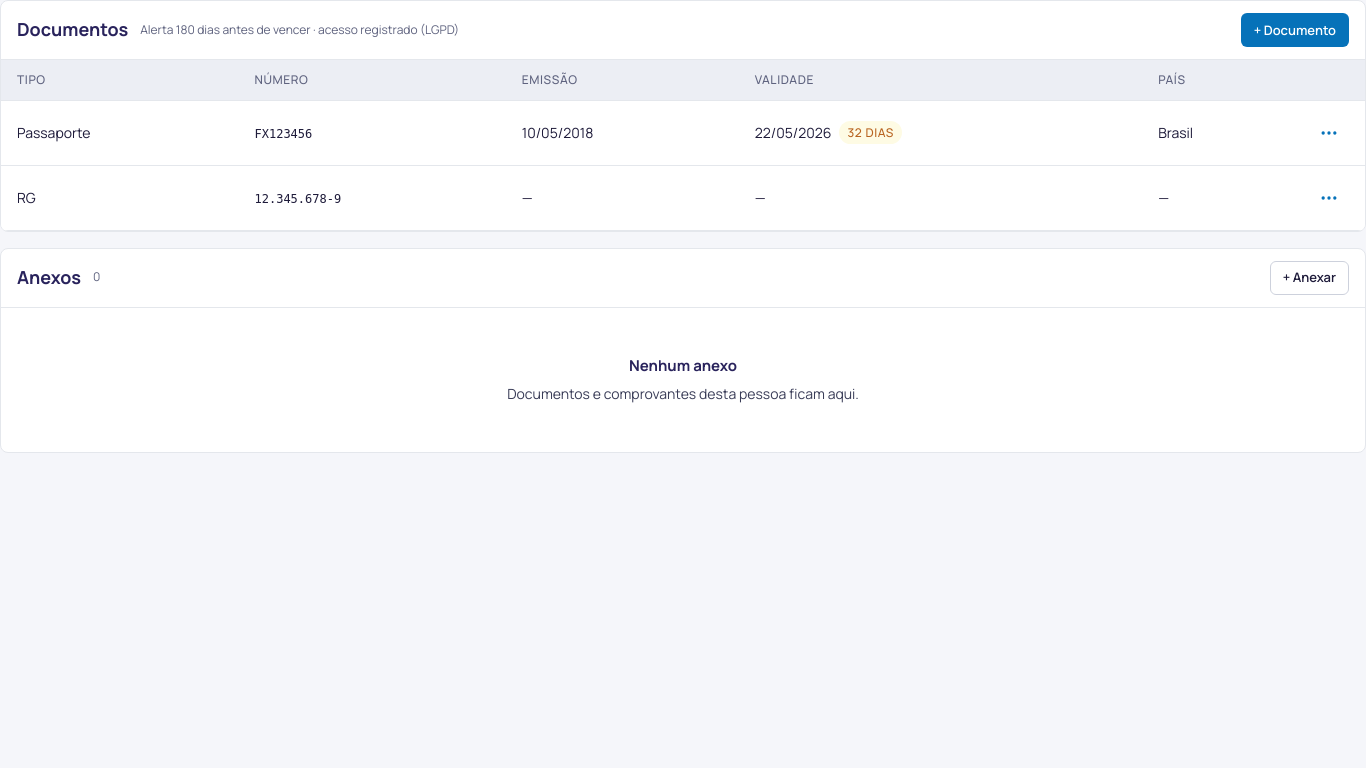
Scenario: "+ Documento" abre o modal
Expected: the text "FX123456" is shown, [254,127,312,141]
Click the button "+ Documento": (1295, 30) [1241,13,1349,47]
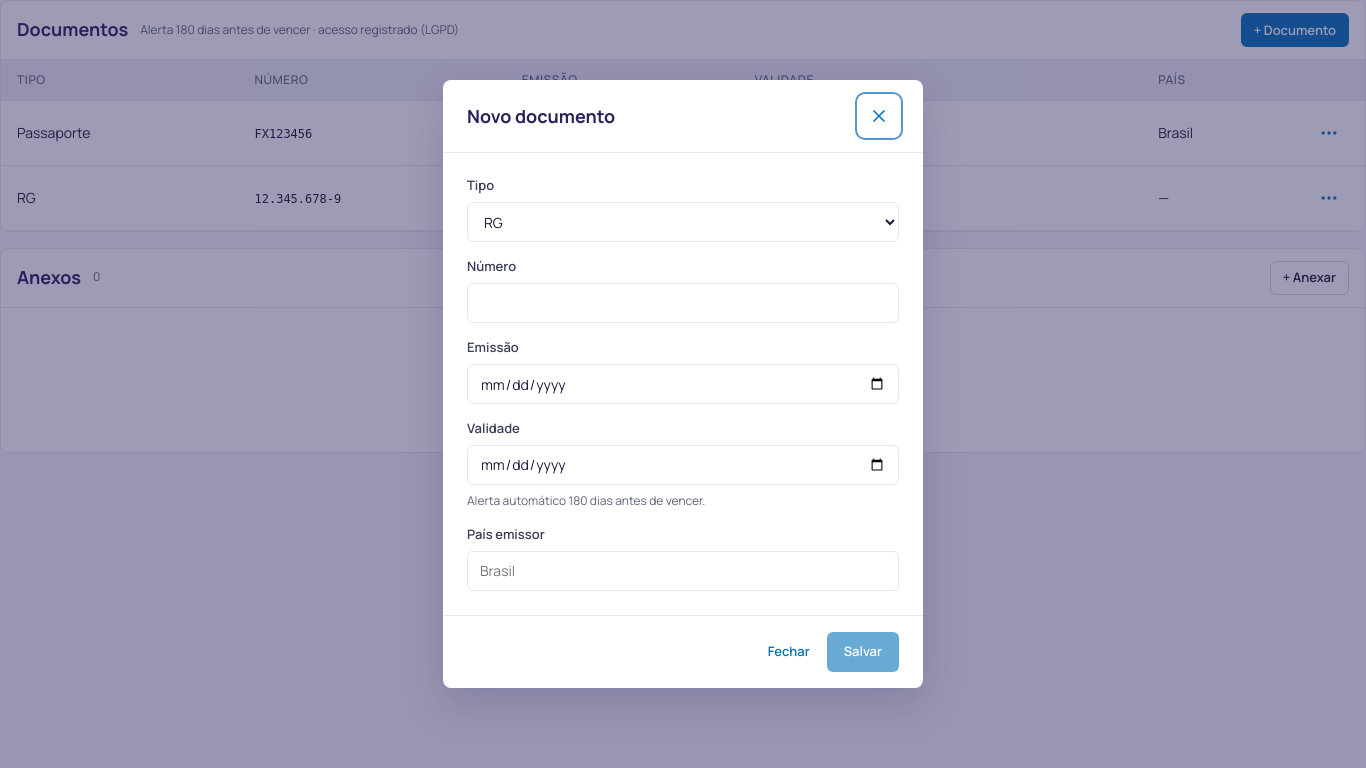
Now the dialog "Novo documento" is shown, box [443,80,923,688]
